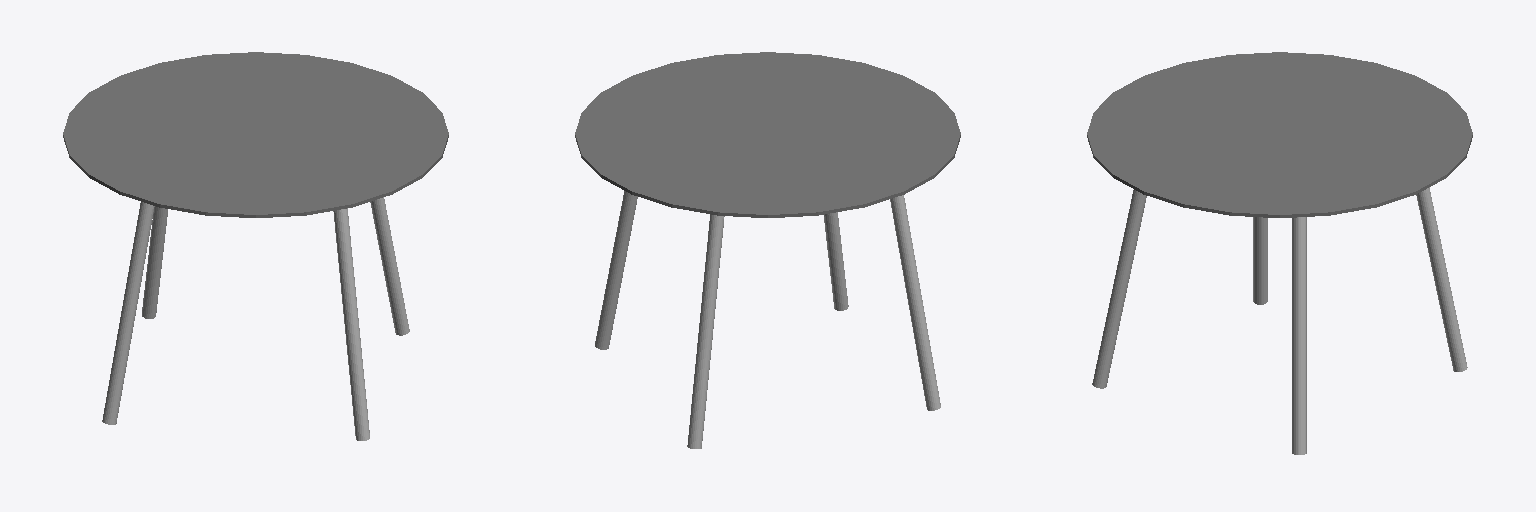
The picture shows the model from 3 angles: view 1: azimuth 30°, elevation 25°; view 2: azimuth 150°, elevation 25°; view 3: azimuth 270°, elevation 25°; orthographic projection.
Visible parts, largest first — view 1: Mesh1 Group2 Group1 SALMI1 Model, Mesh5 Group1 SALMI1 Model, Mesh4 Group1 SALMI1 Model, Mesh3 Group1 SALMI1 Model, Mesh6 Group1 SALMI1 Model; view 2: Mesh1 Group2 Group1 SALMI1 Model, Mesh6 Group1 SALMI1 Model, Mesh4 Group1 SALMI1 Model, Mesh3 Group1 SALMI1 Model, Mesh5 Group1 SALMI1 Model; view 3: Mesh1 Group2 Group1 SALMI1 Model, Mesh3 Group1 SALMI1 Model, Mesh5 Group1 SALMI1 Model, Mesh6 Group1 SALMI1 Model, Mesh4 Group1 SALMI1 Model.
Part boxes in pixels (x1,y1,x2,y2): Mesh1 Group2 Group1 SALMI1 Model: (63,52,448,217); Mesh5 Group1 SALMI1 Model: (333,208,369,440); Mesh4 Group1 SALMI1 Model: (102,202,154,424); Mesh3 Group1 SALMI1 Model: (370,197,409,335); Mesh6 Group1 SALMI1 Model: (142,206,167,318); Mesh1 Group2 Group1 SALMI1 Model: (575,52,960,217); Mesh6 Group1 SALMI1 Model: (687,214,724,448); Mesh4 Group1 SALMI1 Model: (890,195,940,410); Mesh3 Group1 SALMI1 Model: (595,191,637,349); Mesh5 Group1 SALMI1 Model: (824,212,848,310); Mesh1 Group2 Group1 SALMI1 Model: (1087,52,1472,217); Mesh3 Group1 SALMI1 Model: (1292,217,1306,454); Mesh5 Group1 SALMI1 Model: (1092,190,1146,388); Mesh6 Group1 SALMI1 Model: (1416,187,1467,371); Mesh4 Group1 SALMI1 Model: (1253,217,1267,304).
Bounding box in the file's own units: 1.06 × 0.7419 × 1.06.